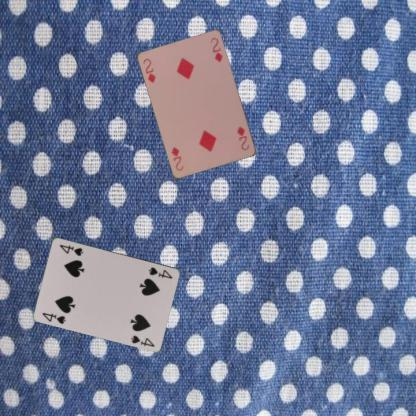2d: (140, 56, 158, 84), (234, 124, 250, 152)
4s: (146, 264, 174, 280), (40, 310, 67, 325)
